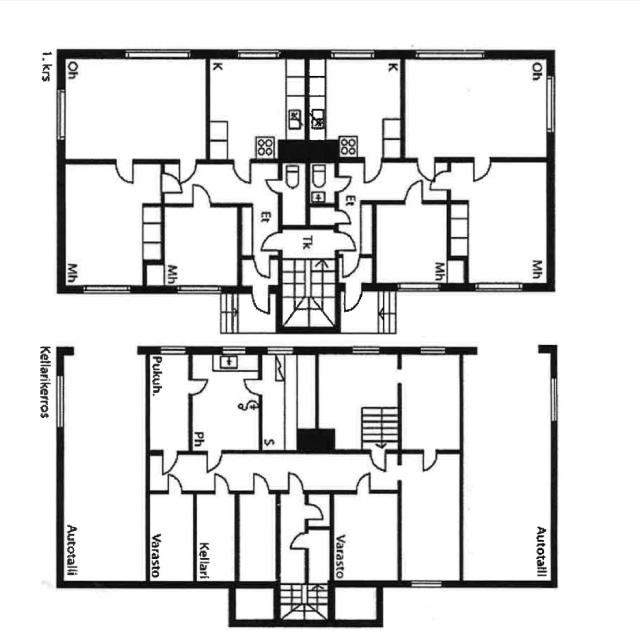door: (286, 510, 311, 565), (303, 493, 331, 527), (112, 156, 138, 186), (158, 170, 185, 198), (248, 287, 274, 316), (469, 154, 494, 184), (338, 249, 363, 279), (340, 285, 365, 314), (360, 156, 385, 184), (309, 206, 344, 226), (430, 168, 456, 194), (175, 156, 199, 184), (402, 178, 426, 205), (230, 157, 254, 184), (416, 152, 438, 181), (189, 182, 213, 208), (260, 229, 286, 253), (202, 448, 224, 476), (367, 445, 389, 473), (333, 228, 358, 252), (251, 254, 274, 280), (186, 375, 211, 398), (158, 449, 180, 475), (285, 470, 307, 496), (288, 527, 309, 554), (240, 375, 264, 398), (250, 471, 272, 496), (419, 447, 440, 473), (211, 472, 232, 496), (354, 470, 374, 495), (332, 173, 354, 194), (166, 474, 184, 496), (264, 176, 283, 194), (333, 208, 353, 225)
window: (118, 42, 199, 64), (410, 44, 490, 62), (472, 340, 544, 358), (542, 70, 560, 140), (51, 85, 70, 147), (392, 278, 446, 297), (472, 278, 528, 296), (52, 369, 68, 431), (78, 281, 136, 298), (173, 280, 225, 298), (327, 44, 381, 61), (233, 44, 285, 60), (546, 374, 560, 426), (413, 341, 453, 358), (405, 577, 448, 591), (346, 343, 385, 357), (156, 342, 190, 357), (219, 343, 251, 355), (264, 344, 298, 355)
zone: (460, 346, 554, 585), (59, 354, 147, 582), (62, 54, 208, 162), (402, 54, 549, 160), (450, 157, 552, 287), (62, 161, 164, 290), (208, 54, 305, 161), (308, 54, 403, 159), (316, 350, 399, 450), (150, 203, 242, 289), (372, 201, 466, 285), (190, 352, 259, 453), (399, 351, 462, 451), (333, 491, 399, 583), (260, 352, 314, 452), (148, 492, 195, 584), (149, 354, 190, 452), (195, 491, 236, 583), (238, 493, 277, 582), (281, 160, 308, 224), (309, 158, 337, 206), (305, 491, 331, 528), (309, 206, 338, 225)
